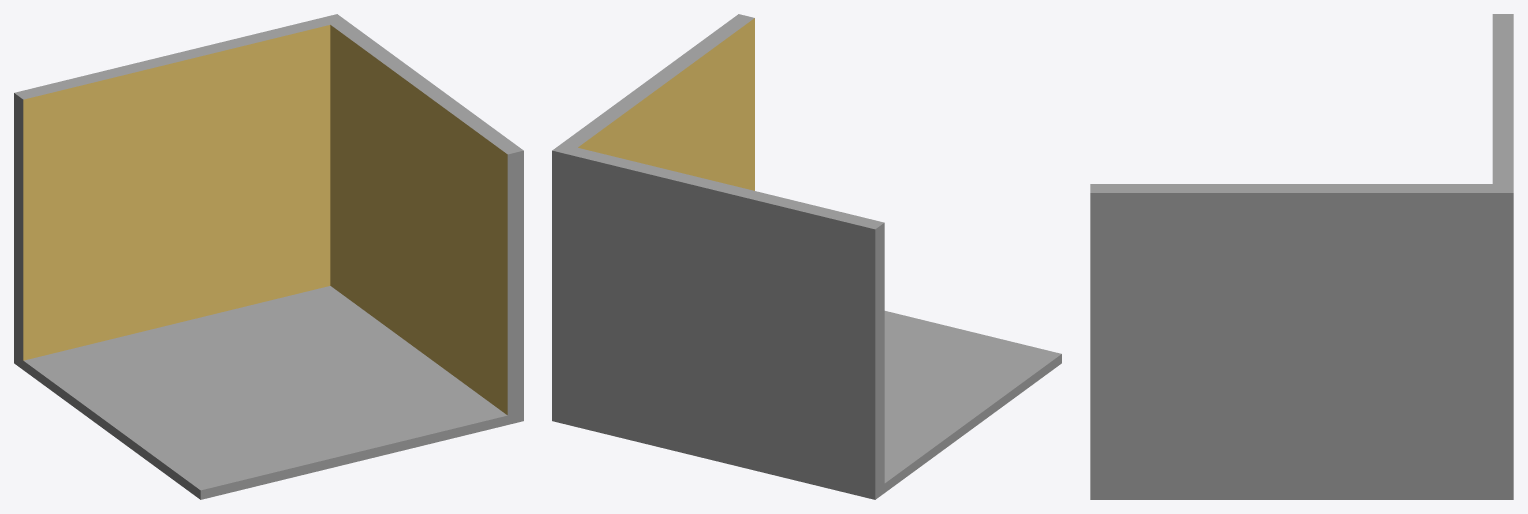
File: Wall_9.fbx
The picture shows the model from 3 angles, left to right: view 1: azimuth 30°, elevation 25°; view 2: azimuth 150°, elevation 25°; view 3: azimuth 270°, elevation 25°; orthographic projection. The views are drawn at different scales.
Parts seen in each view (by area): view 1: Wall_9; view 2: Wall_9; view 3: Wall_9.
Boxes of the visible parts, x1,y1,x2,y2 form: Wall_9: (14,14,523,499); Wall_9: (552,14,1061,499); Wall_9: (1090,14,1513,499).
Size of the model in its own units: 3.8 by 3.04 by 3.8.
